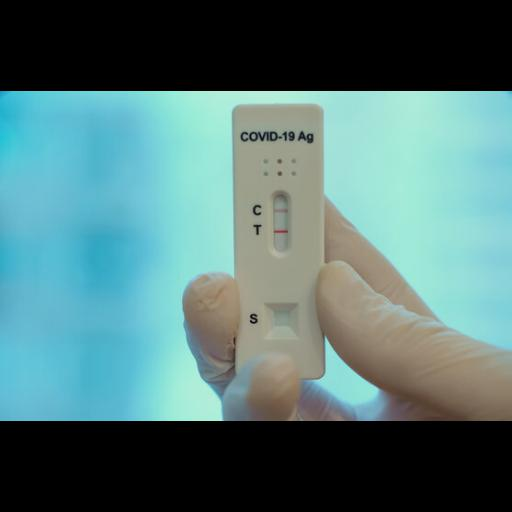Pos: (231, 106, 323, 378)
